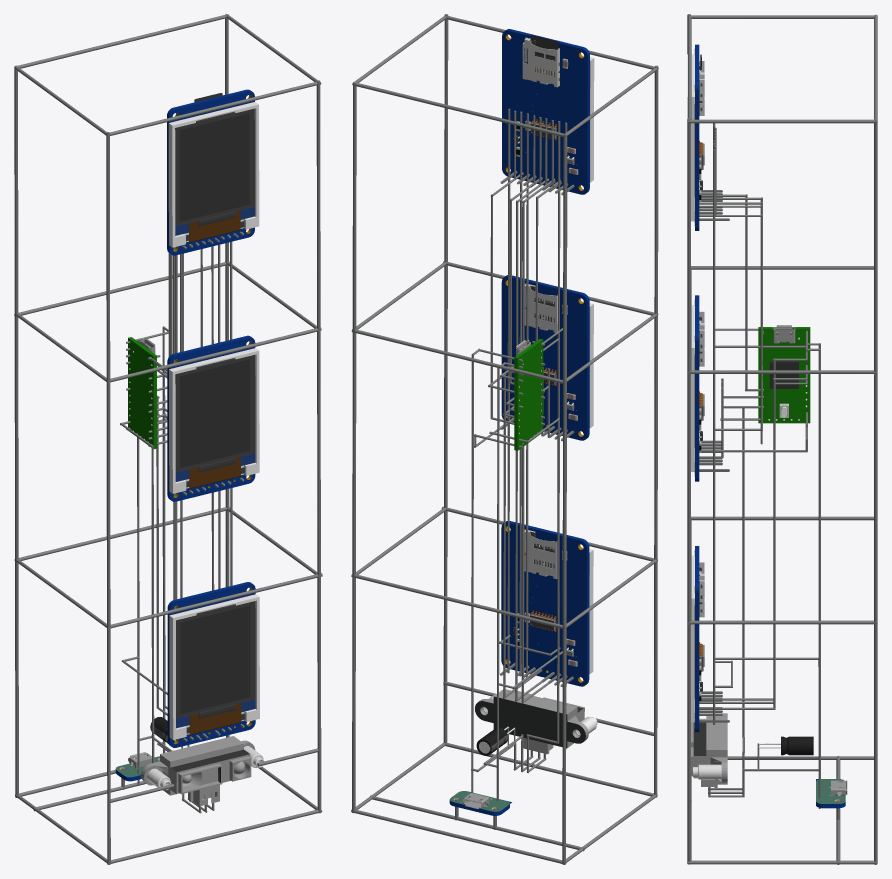
Rendered from ffc2.glb.
3 renders of one model, left to right at view 1: azimuth 30°, elevation 25°; view 2: azimuth 150°, elevation 25°; view 3: azimuth 270°, elevation 25°, orthographic.
Parts seen in each view (by area): view 1: *6, Opaque(51,51,51), Opaque(242,242,242), *10, Opaque(63,63,63), Steel - Satin_1, *20, Opaque(89,52,14), Opaque(27,61,128); view 2: *6, *10, Opaque(204,206,204), *1_1, *20, Opaque(242,242,242), Steel - Satin_1, *6_1; view 3: *6, *20, *10, Opaque(242,242,242), Steel - Satin_1, *6_1, Opaque(204,206,204), *1, Opaque(28,28,28), Opaque(68,119,102), [Metal Corrugated Shiny], *1_1 (+1 smaller).
Part boxes in pixels (<box>): *6: <box>14,14,322,864</box>; Opaque(51,51,51): <box>179,113,250,714</box>; Opaque(242,242,242): <box>168,102,259,739</box>; *10: <box>167,89,255,747</box>; Opaque(63,63,63): <box>175,108,255,733</box>; Steel - Satin_1: <box>141,420,255,806</box>; *20: <box>128,337,157,449</box>; Opaque(89,52,14): <box>188,210,241,734</box>; Opaque(27,61,128): <box>175,207,255,728</box>; *6: <box>351,14,658,864</box>; *10: <box>501,29,589,686</box>; Opaque(204,206,204): <box>522,37,559,579</box>; *1_1: <box>475,696,585,748</box>; *20: <box>514,339,543,450</box>; Opaque(242,242,242): <box>509,37,594,674</box>; Steel - Satin_1: <box>479,689,588,754</box>; *6_1: <box>500,171,574,686</box>; *6: <box>687,14,877,864</box>; *20: <box>758,327,810,423</box>; *10: <box>695,44,699,732</box>; Opaque(242,242,242): <box>687,54,694,722</box>; Steel - Satin_1: <box>691,407,788,788</box>; *6_1: <box>694,190,729,722</box>; Opaque(204,206,204): <box>699,61,704,617</box>; *1: <box>769,360,798,388</box>; Opaque(28,28,28): <box>781,736,813,755</box>; Opaque(68,119,102): <box>816,779,845,803</box>; [Metal Corrugated Shiny]: <box>692,718,721,779</box>; *1_1: <box>693,719,706,755</box>.
Bounding box in the file's own units: 0.0863 × 0.2821 × 0.0648.
59 materials, 2 textured.
